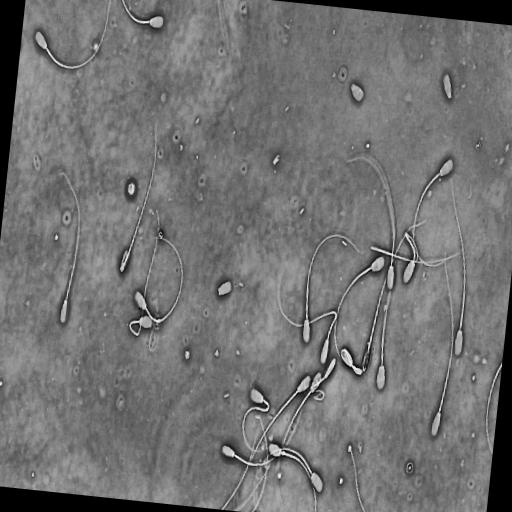coiled-tail: (351, 365, 363, 375)
dirt-particles: (124, 177, 138, 201), (271, 151, 281, 168), (404, 460, 415, 475), (182, 347, 191, 363), (158, 229, 164, 241)
folded-tail: (121, 125, 157, 271), (129, 210, 160, 336), (279, 300, 338, 341), (311, 377, 325, 401)
loose-head: (440, 70, 454, 101), (349, 80, 366, 105), (216, 278, 233, 299)
loose-tail: (221, 427, 259, 510), (370, 244, 466, 264), (250, 413, 269, 512), (485, 360, 501, 457), (348, 444, 369, 512)
normal: (360, 217, 428, 375), (300, 229, 368, 345), (347, 154, 396, 294), (118, 115, 158, 274), (247, 373, 312, 470), (333, 253, 388, 362), (31, 0, 113, 73), (220, 403, 305, 469), (429, 248, 455, 439), (412, 156, 455, 270), (131, 235, 184, 327), (128, 207, 160, 338), (278, 298, 340, 365), (58, 169, 82, 326), (266, 440, 318, 512), (449, 174, 468, 360), (256, 447, 325, 494), (281, 371, 323, 448), (375, 266, 395, 395), (241, 384, 271, 454), (304, 355, 337, 401), (120, 0, 166, 32), (401, 232, 419, 288), (338, 344, 364, 377)
